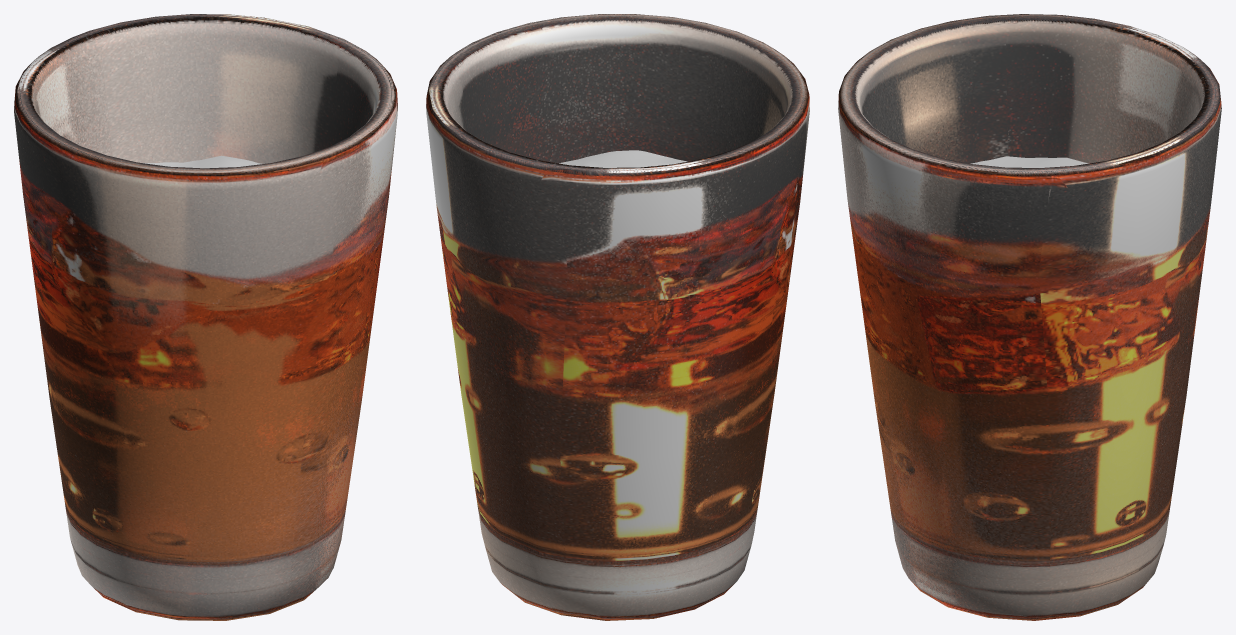
Rendered from old_fashioned.fbx.
3 views of the same model, side by side, from view 1: azimuth 30°, elevation 25°; view 2: azimuth 150°, elevation 25°; view 3: azimuth 270°, elevation 25° (orthographic).
Visible parts, largest first — view 1: Tumbler, Liquid; view 2: Tumbler, Liquid; view 3: Tumbler, Liquid.
Part boxes in pixels (x1,y1,x2,y2): Tumbler: [14, 14, 397, 620]; Liquid: [143, 155, 261, 168]; Tumbler: [426, 14, 809, 620]; Liquid: [559, 150, 687, 167]; Tumbler: [838, 14, 1221, 620]; Liquid: [970, 156, 1089, 167].
Size of the model in its own units: 67.96 by 93.81 by 67.96.
